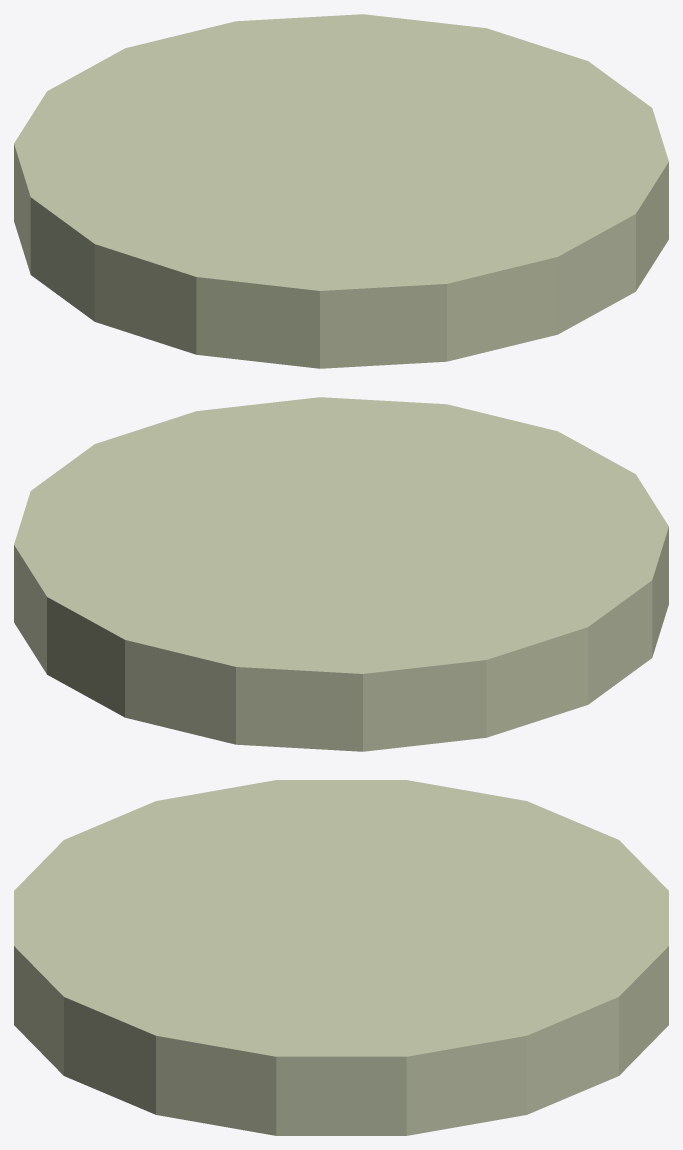
The model's file is alnair_parachute_s0p5_1_collider.obj.
The picture shows the model from 3 angles, top to bottom: view 1: azimuth 30°, elevation 25°; view 2: azimuth 150°, elevation 25°; view 3: azimuth 270°, elevation 25°; orthographic projection.
Visible parts, largest first — view 1: collider; view 2: collider; view 3: collider.
Boxes of the visible parts, x1,y1,x2,y2 form: collider: (14, 14, 668, 368); collider: (14, 397, 668, 751); collider: (14, 780, 668, 1135).
Size of the model in its own units: 0.9375 by 0.125 by 0.9375.
